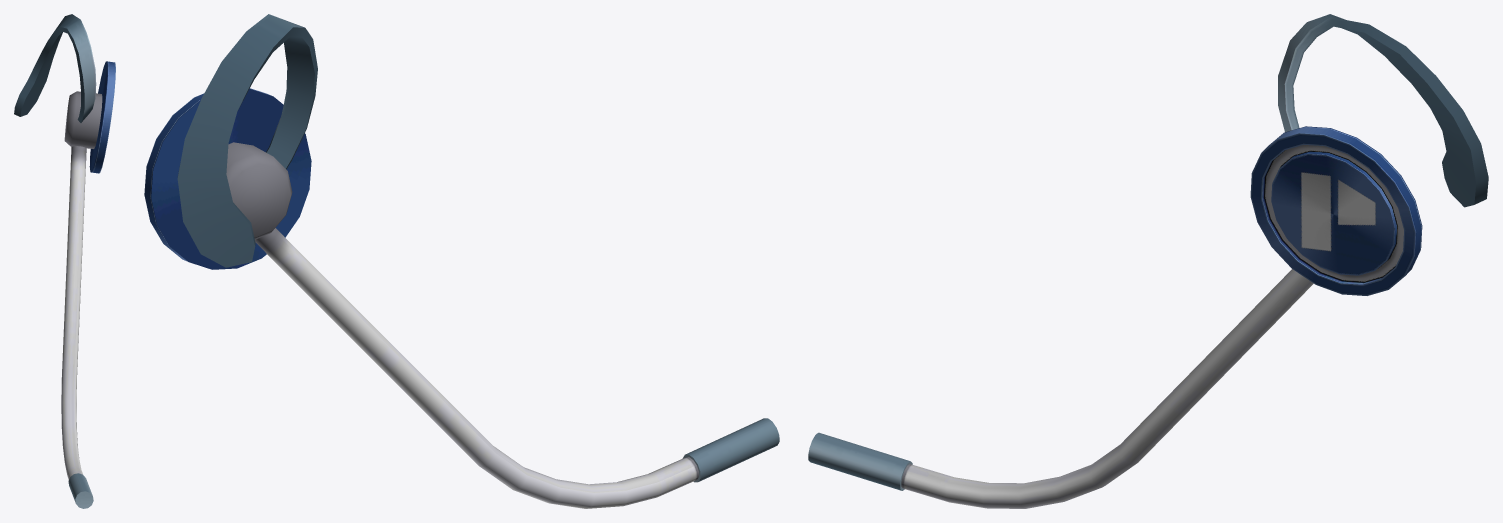
The model's file is EntrainingIntercomMayoi.fbx.
3 renders of one model, left to right at view 1: azimuth 30°, elevation 25°; view 2: azimuth 150°, elevation 25°; view 3: azimuth 270°, elevation 25°, orthographic. The views are drawn at different scales.
Visible parts, largest first — view 1: EntrainingIntercomMayoi; view 2: EntrainingIntercomMayoi; view 3: EntrainingIntercomMayoi.
Part boxes in pixels (x1,y1,x2,y2): EntrainingIntercomMayoi: (14, 14, 115, 508); EntrainingIntercomMayoi: (144, 14, 779, 508); EntrainingIntercomMayoi: (808, 14, 1488, 508).
Bounding box in the file's own units: 0.0473 × 0.0749 × 0.0794.
Materials: 1 (1 with a texture image).
